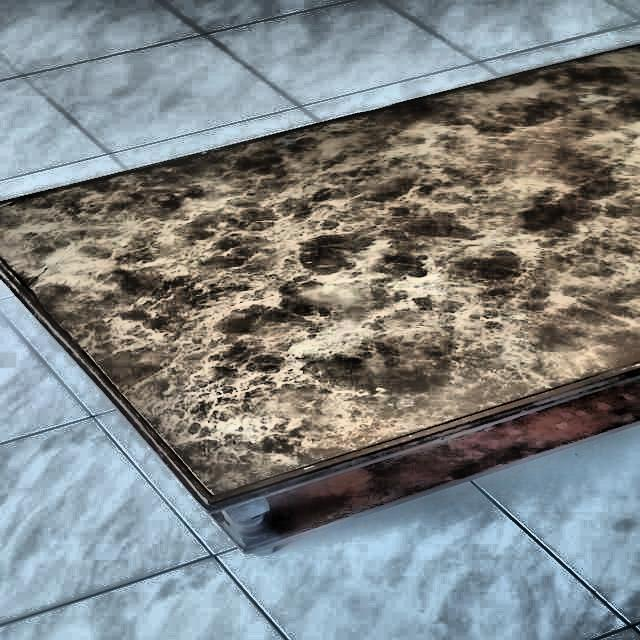mesa: (0, 39, 640, 557)
